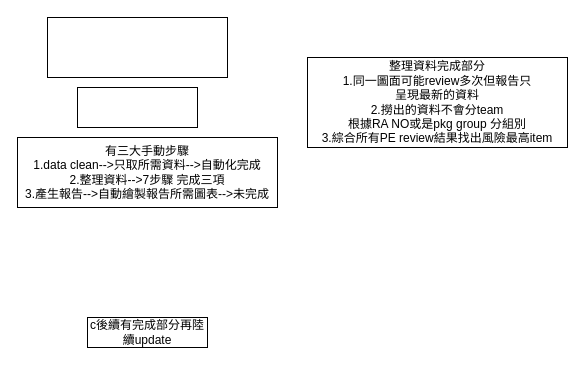
This 585x365 diagram has some shape labels left out. The shapes that lost their labels are listed below. From the top down, each one's box as (x1, y1, x2, y2) in pixels, then its label:
(46, 16, 228, 78): sub 下 四個 team 定期將designer與pe review圖面的結果手動彙整為報告 此專案為將手動過程自動化
(76, 86, 198, 128): update自動化進度
